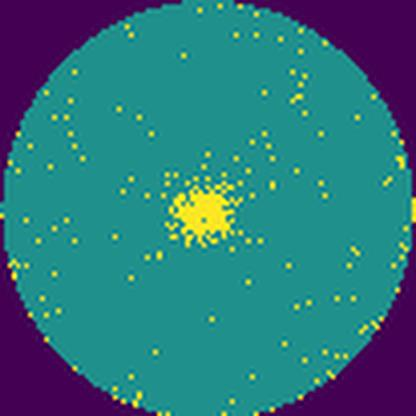Center: (170, 185, 235, 245)
